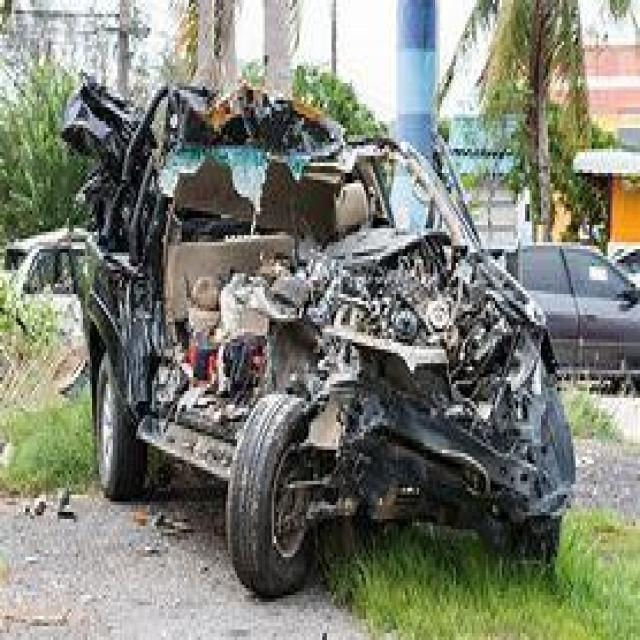Nguy hiểm: (58, 61, 580, 607)
